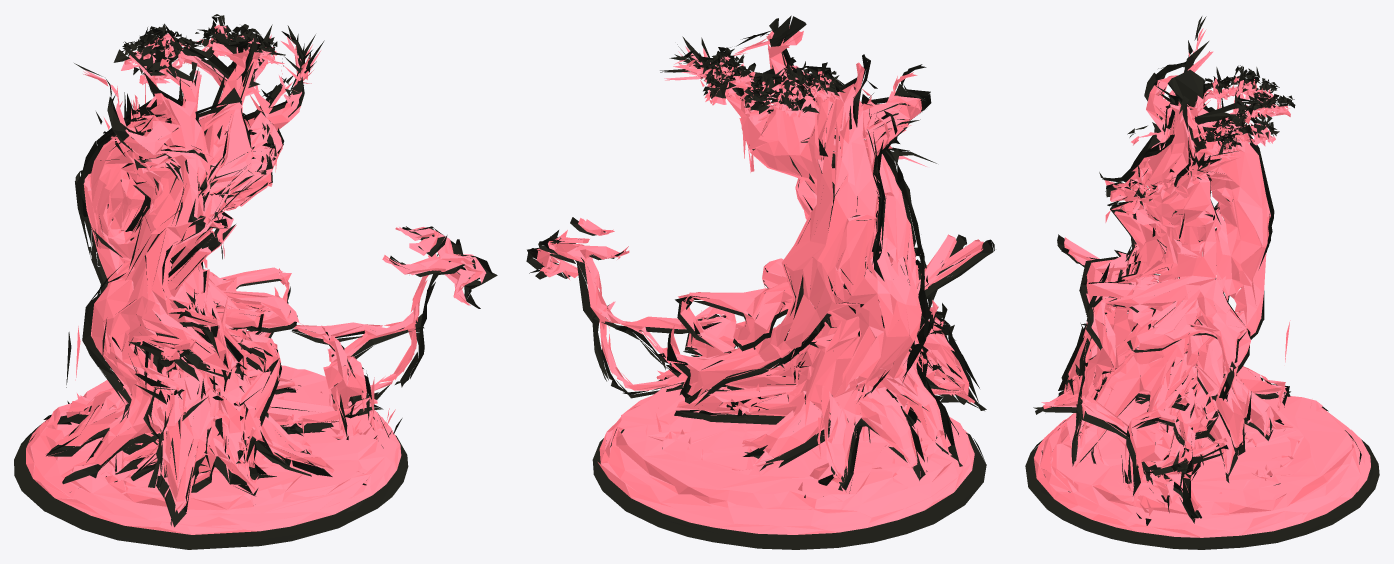
File: df_v2_glowing_mushroom_ring_hero_b_a.glb
3 renders of one model, left to right at view 1: azimuth 30°, elevation 25°; view 2: azimuth 150°, elevation 25°; view 3: azimuth 270°, elevation 25°, orthographic. The views are drawn at different scales.
Parts seen in each view (by area): view 1: glowing_mushroom_ring_hero_b_mesh_01, glowing_mushroom_ring_hero_b_mesh_01_ink_outline; view 2: glowing_mushroom_ring_hero_b_mesh_01, glowing_mushroom_ring_hero_b_mesh_01_ink_outline; view 3: glowing_mushroom_ring_hero_b_mesh_01, glowing_mushroom_ring_hero_b_mesh_01_ink_outline.
Boxes of the visible parts, box(x1,y1,x2,y2) form: glowing_mushroom_ring_hero_b_mesh_01: box(26, 24, 486, 534); glowing_mushroom_ring_hero_b_mesh_01_ink_outline: box(14, 14, 497, 549); glowing_mushroom_ring_hero_b_mesh_01: box(536, 26, 983, 534); glowing_mushroom_ring_hero_b_mesh_01_ink_outline: box(526, 15, 994, 549); glowing_mushroom_ring_hero_b_mesh_01: box(1034, 28, 1370, 537); glowing_mushroom_ring_hero_b_mesh_01_ink_outline: box(1025, 16, 1379, 549).
Size of the model in its own units: 1.58 by 1.49 by 1.19.
